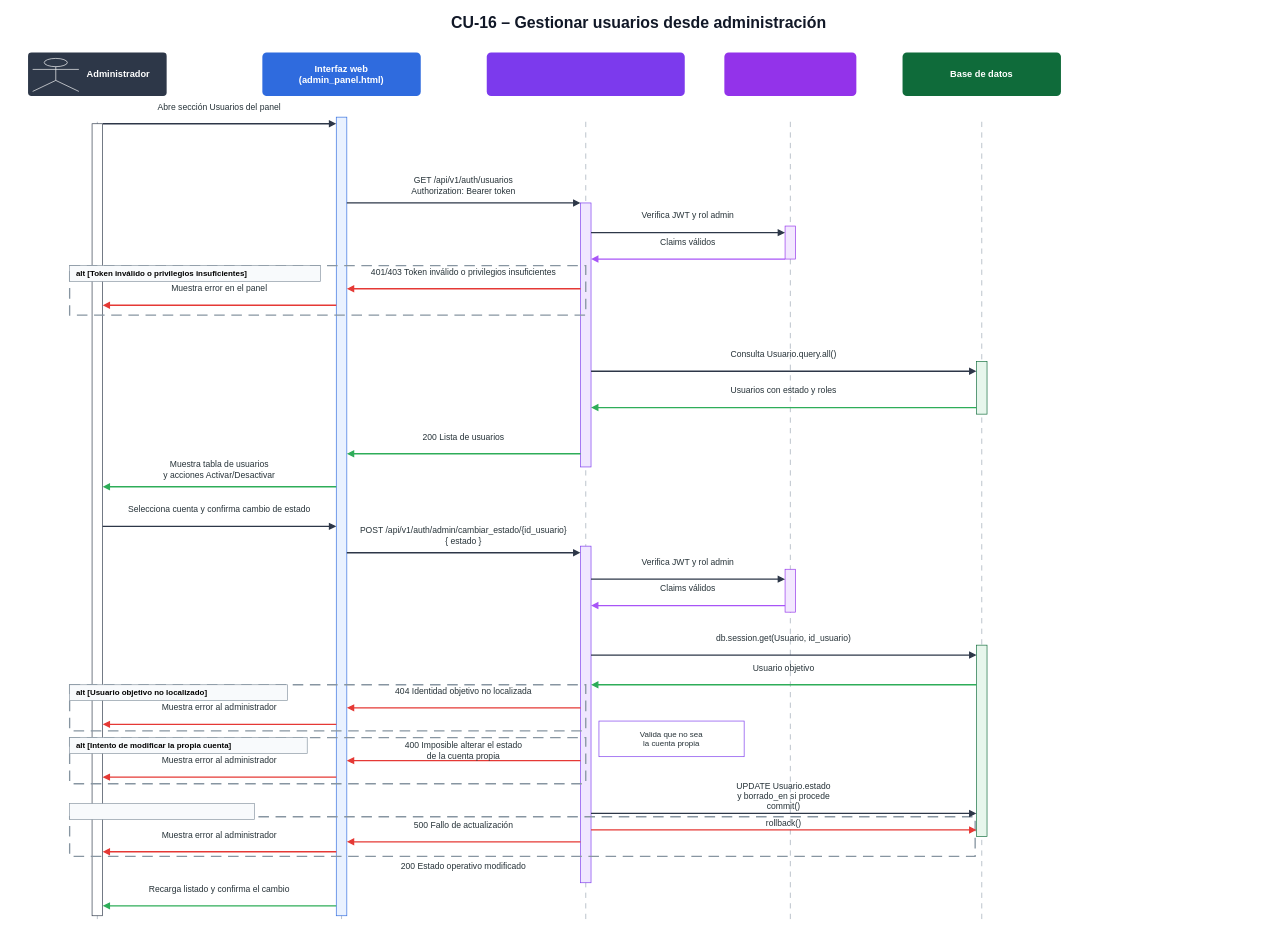
This 1276x931 diagram has some shape labels left out. Each missing label, with the centre of its shape:
"alt [Error al actualizar estado]" belongs at [161,811].
"Auth Controller" belongs at [585,74].
"Servicio JWT" belongs at [790,74].
